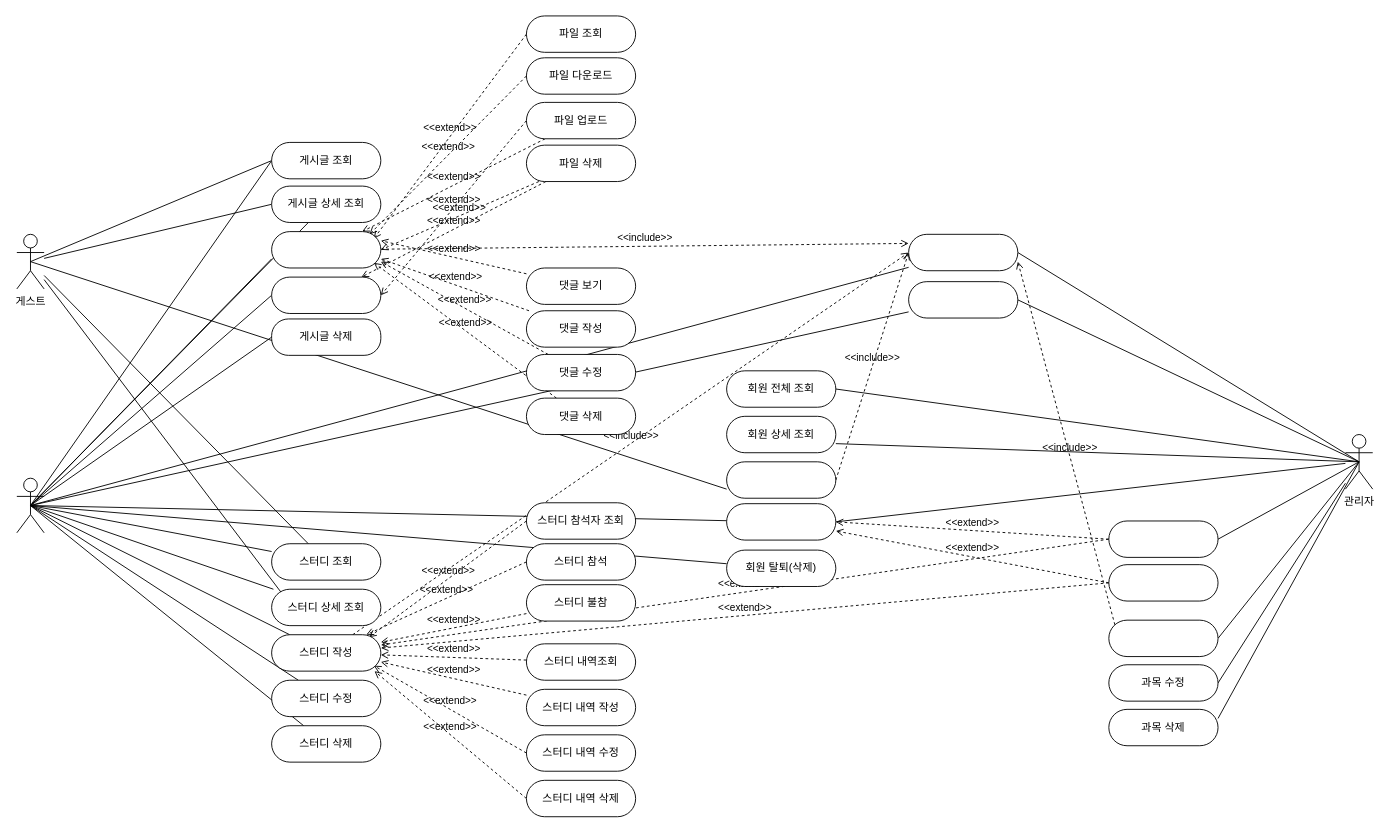
Image size: 1390x833. Some labels were removed from this diagram. Each missing label, with the centre of its shape:
"게시글 수정" goes at point (326, 294).
"게시글 작성" goes at point (326, 249).
"과목 등록" goes at point (1163, 638).
"과목 선택(추가)" goes at point (1163, 582).
"과목 조회" goes at point (1163, 538).
"로그아웃" goes at point (963, 299).
"사용자 인증(로그인)" goes at point (963, 252).
"회원" goes at point (30, 505).
"회원 정보 수정" goes at point (781, 521).
"회원가입" goes at point (781, 479).
